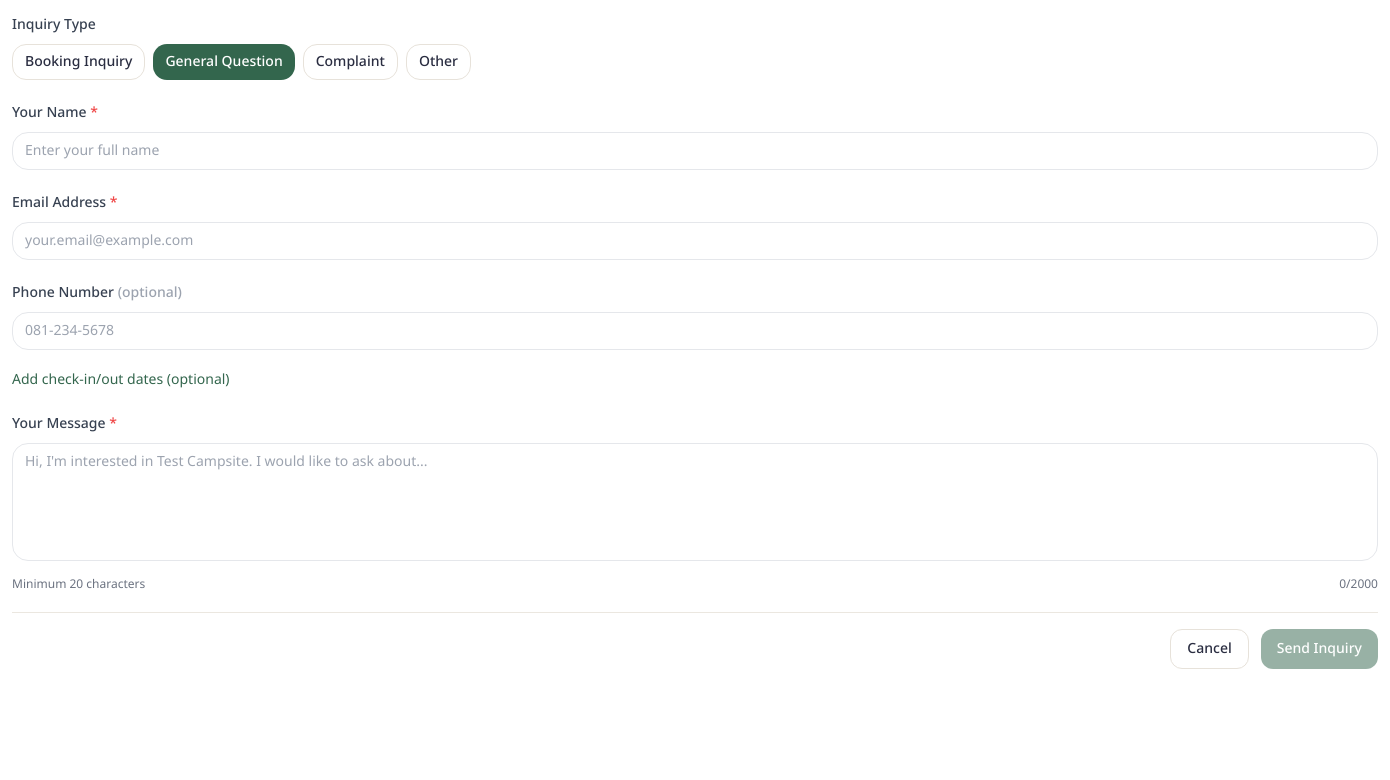
it: InquiryForm Character Counter › Character count display › updates count as user types
Type "Hello" into the text box labelled "Your Message *".
click(695, 502); type("Hello")  # box 12,443 -> 1378,561
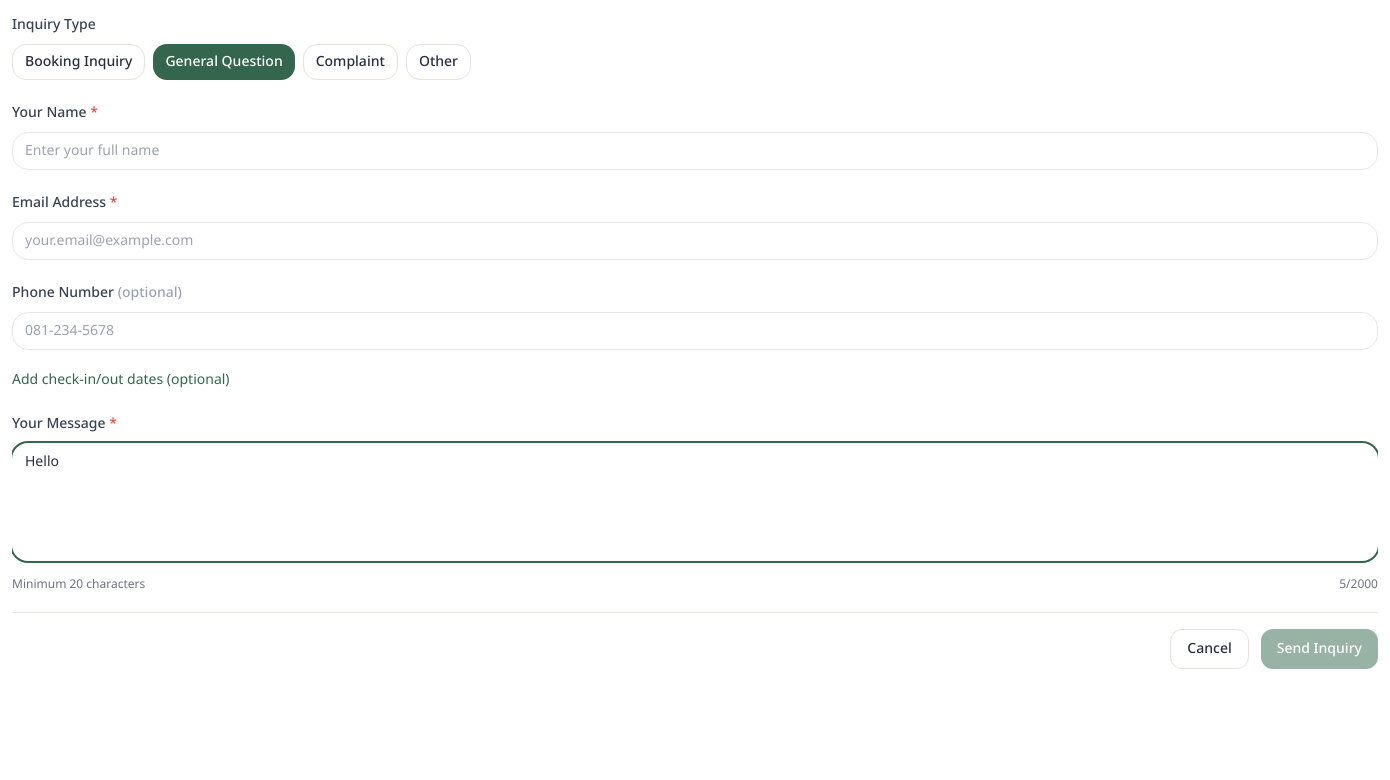
Result: the text "5/2000" is shown at 1339,576 -> 1378,592
